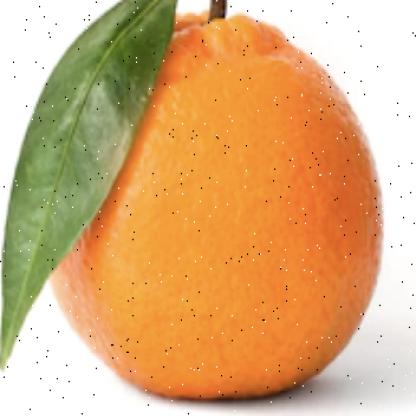fresh: (47, 9, 381, 400)
